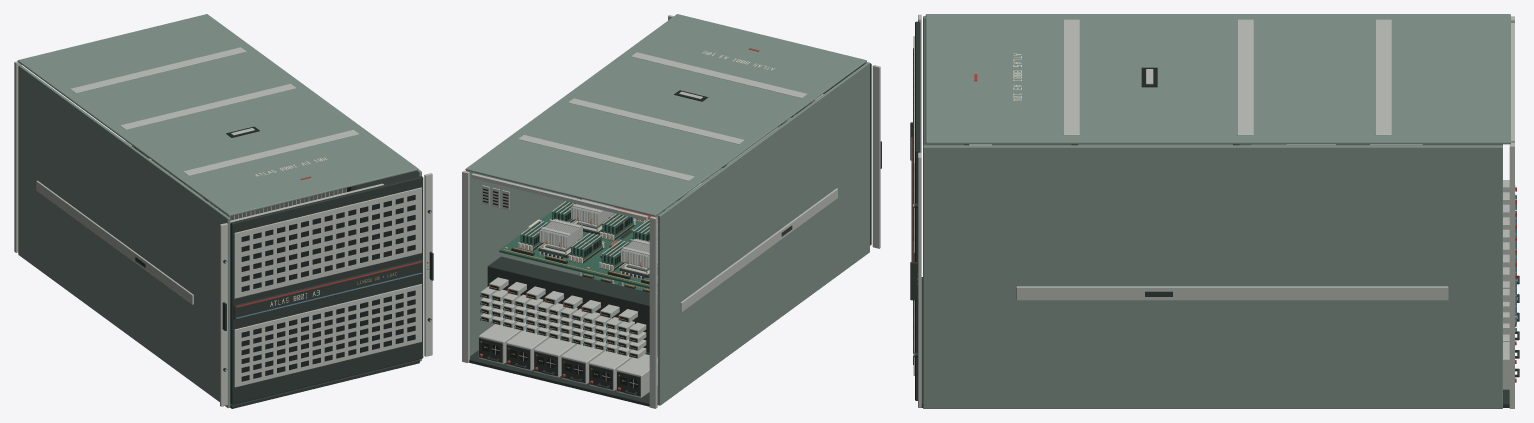
Rendered from atlas-800i-a3.glb.
3 views of the same model, side by side, from view 1: azimuth 30°, elevation 25°; view 2: azimuth 150°, elevation 25°; view 3: azimuth 270°, elevation 25° (orthographic). The views are drawn at different scales.
Parts seen in each view (by area): view 1: Atlas_800I_A3 / Lid / sage grey, Atlas_800I_A3_lid / Lid / sage grey, Atlas_800I_A3 / Silver / warm satin, Atlas_800I_A3 / Charcoal / soft enamel, Atlas_800I_A3 / Recess / warm shadow, Atlas_800I_A3_lid / Silver / warm satin, Atlas_800I_A3_laac / Silver / warm satin, Atlas_800I_A3 / Atlas / vermilion accent, Atlas_800I_A3_fans / Silver / warm satin; view 2: Atlas_800I_A3 / Lid / sage grey, Atlas_800I_A3_lid / Lid / sage grey, Atlas_800I_A3 / Silver / warm satin, Atlas_800I_A3_network / Silver / warm satin, Atlas_800I_A3_network / Charcoal / soft enamel, Atlas_800I_A3_power / Silver / warm satin, Atlas_800I_A3_lid / Silver / warm satin, Atlas_800I_A3_power / Charcoal / soft enamel, Atlas_800I_A3 / Charcoal / soft enamel, Atlas_800I_A3_network / Recess / warm shadow, Atlas_800I_A3_host / PCB / jade enamel, Atlas_800I_A3_cpu3_cooler / Silver / warm satin (+6 smaller); view 3: Atlas_800I_A3 / Lid / sage grey, Atlas_800I_A3_lid / Lid / sage grey, Atlas_800I_A3 / Silver / warm satin, Atlas_800I_A3_lid / Silver / warm satin, Atlas_800I_A3 / Charcoal / soft enamel, Atlas_800I_A3_network / Silver / warm satin.
Part boxes in pixels (x1,y1,x2,y2): Atlas_800I_A3 / Lid / sage grey: [18, 65, 421, 407]; Atlas_800I_A3_lid / Lid / sage grey: [17, 14, 418, 216]; Atlas_800I_A3 / Silver / warm satin: [14, 61, 432, 406]; Atlas_800I_A3 / Charcoal / soft enamel: [135, 176, 433, 408]; Atlas_800I_A3 / Recess / warm shadow: [241, 195, 415, 381]; Atlas_800I_A3_lid / Silver / warm satin: [70, 47, 358, 175]; Atlas_800I_A3_laac / Silver / warm satin: [149, 158, 346, 220]; Atlas_800I_A3 / Atlas / vermilion accent: [236, 261, 428, 307]; Atlas_800I_A3_fans / Silver / warm satin: [230, 183, 383, 222]; Atlas_800I_A3 / Lid / sage grey: [466, 62, 869, 405]; Atlas_800I_A3_lid / Lid / sage grey: [465, 14, 866, 216]; Atlas_800I_A3 / Silver / warm satin: [462, 15, 880, 408]; Atlas_800I_A3_network / Silver / warm satin: [480, 277, 646, 358]; Atlas_800I_A3_network / Charcoal / soft enamel: [487, 256, 657, 352]; Atlas_800I_A3_power / Silver / warm satin: [478, 324, 657, 397]; Atlas_800I_A3_lid / Silver / warm satin: [518, 52, 807, 180]; Atlas_800I_A3_power / Charcoal / soft enamel: [479, 338, 640, 396]; Atlas_800I_A3 / Charcoal / soft enamel: [469, 62, 881, 406]; Atlas_800I_A3_network / Recess / warm shadow: [481, 285, 637, 357]; Atlas_800I_A3_host / PCB / jade enamel: [499, 212, 657, 290]; Atlas_800I_A3_cpu3_cooler / Silver / warm satin: [539, 219, 582, 248]; Atlas_800I_A3 / Lid / sage grey: [923, 16, 1502, 408]; Atlas_800I_A3_lid / Lid / sage grey: [925, 14, 1510, 144]; Atlas_800I_A3 / Silver / warm satin: [913, 14, 1514, 408]; Atlas_800I_A3_lid / Silver / warm satin: [1063, 19, 1391, 135]; Atlas_800I_A3 / Charcoal / soft enamel: [910, 21, 1509, 407]; Atlas_800I_A3_network / Silver / warm satin: [1503, 180, 1509, 334].
Bounding box in the file's own units: 5.07 × 4.45 × 9.14.
